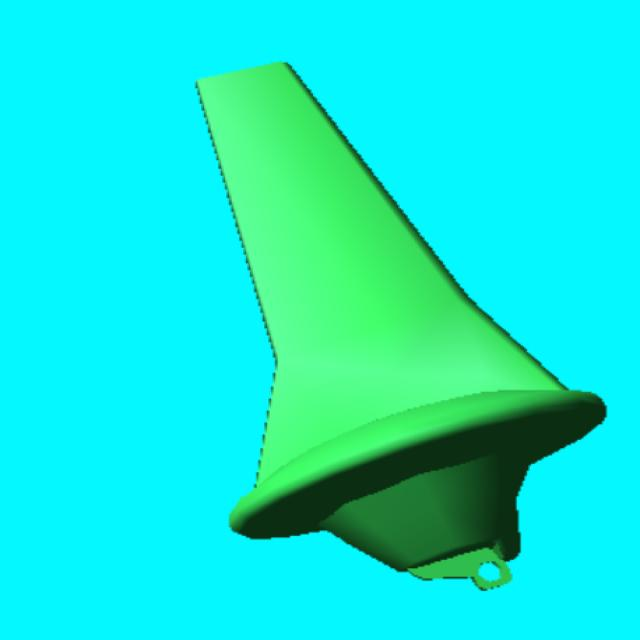GreenBuoy: (197, 64, 604, 589)
